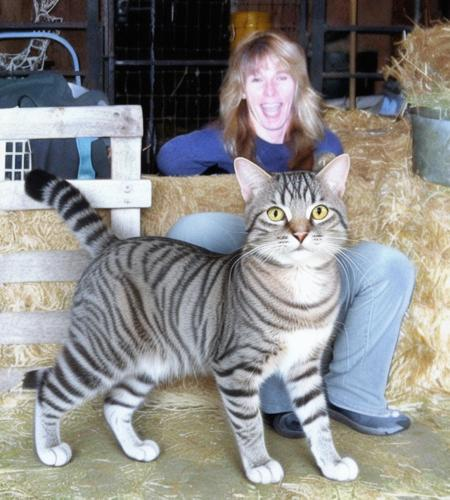cat: (24, 153, 381, 482)
person: (104, 30, 416, 436)
person/foot: (320, 392, 411, 436), (205, 347, 228, 411)
person/hand: (165, 230, 239, 289), (345, 187, 374, 224)
person/head: (245, 33, 302, 128)
